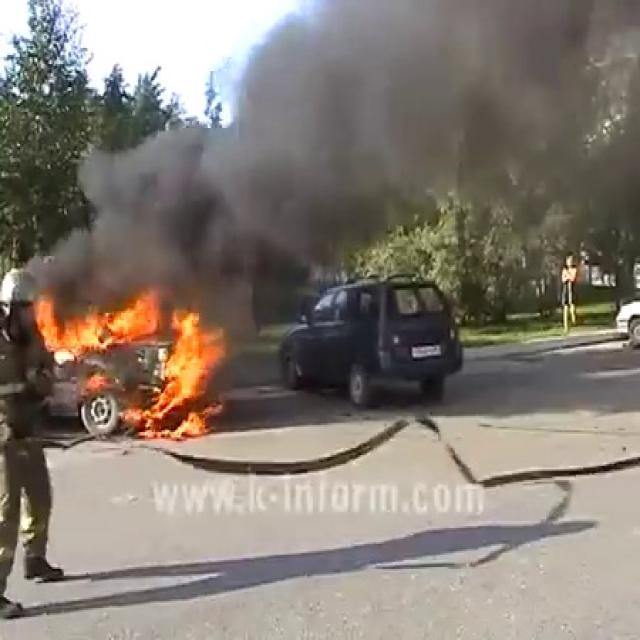Fire: (30, 287, 229, 437)
Smoke: (50, 0, 640, 306)
